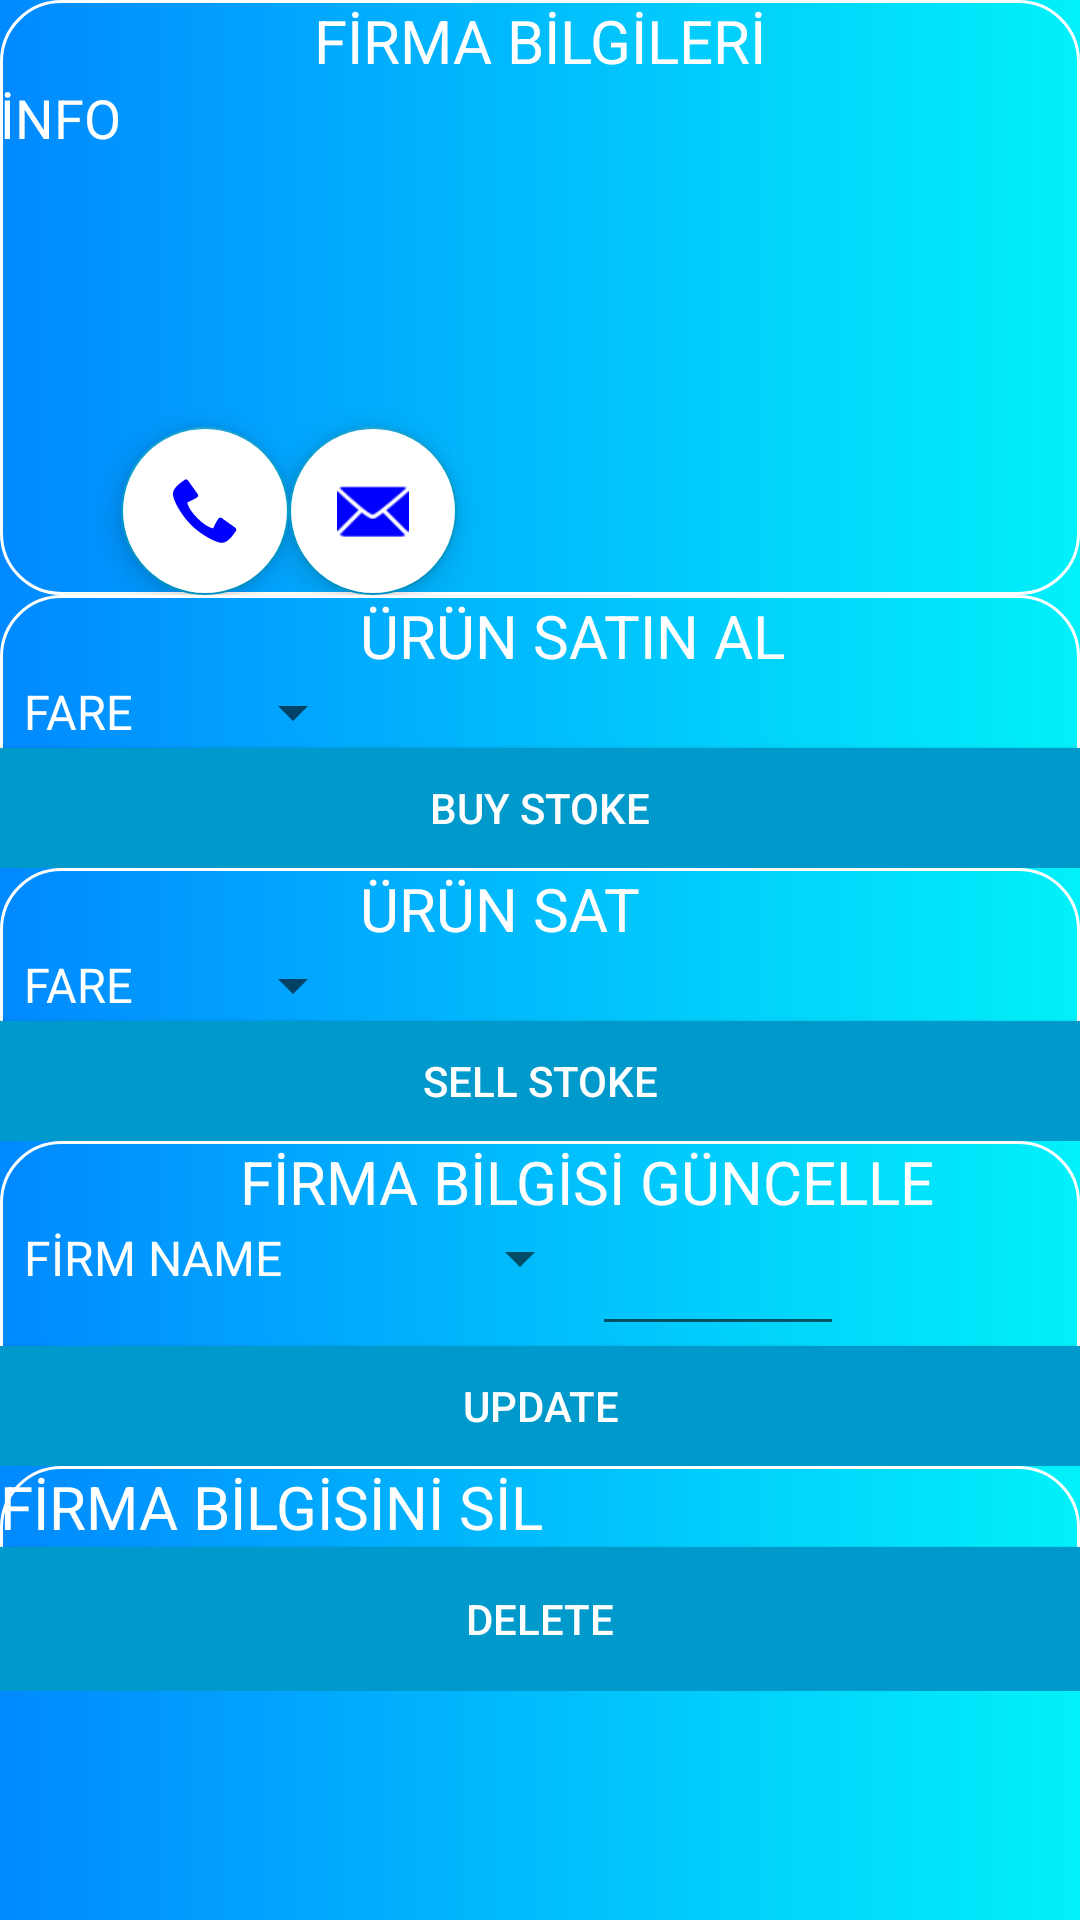

Named icons in this screenshot (1080px x 1920px) and their centers, (x,y):
email: (373,511)
phone call: (205,511)
